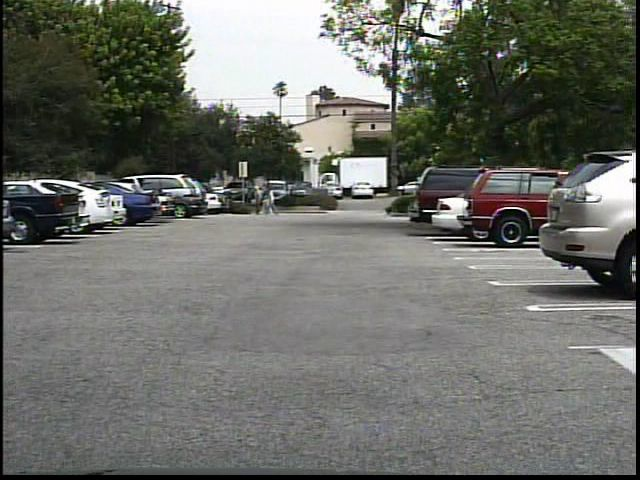person: (251, 185, 266, 216), (268, 186, 282, 219), (261, 185, 274, 216)
